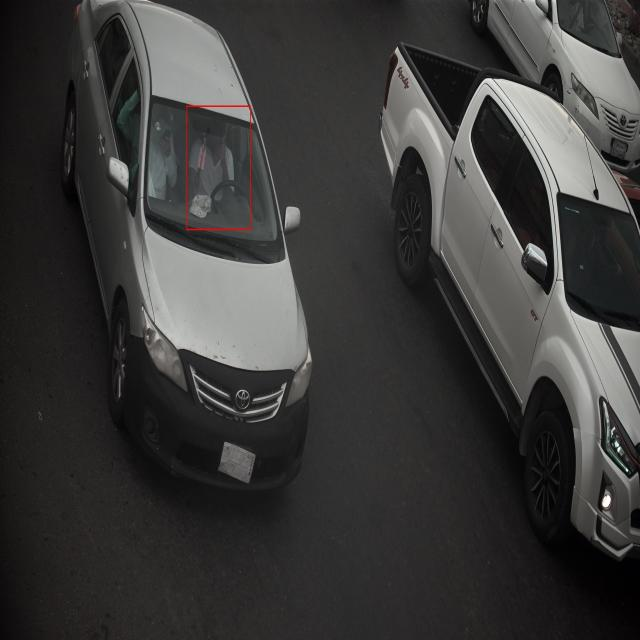windshield: (141, 82, 291, 270), (553, 178, 640, 334)
